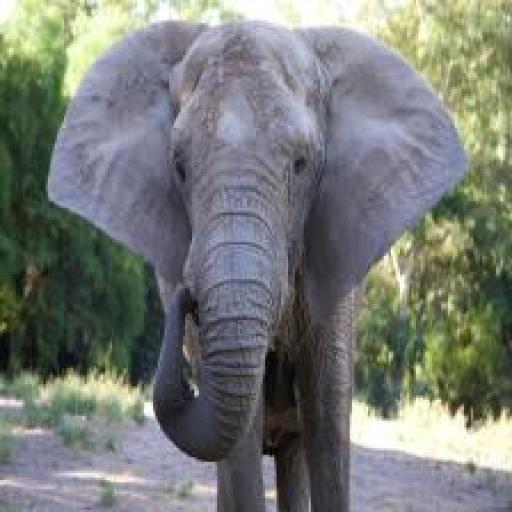Elephant: (43, 20, 470, 512)
